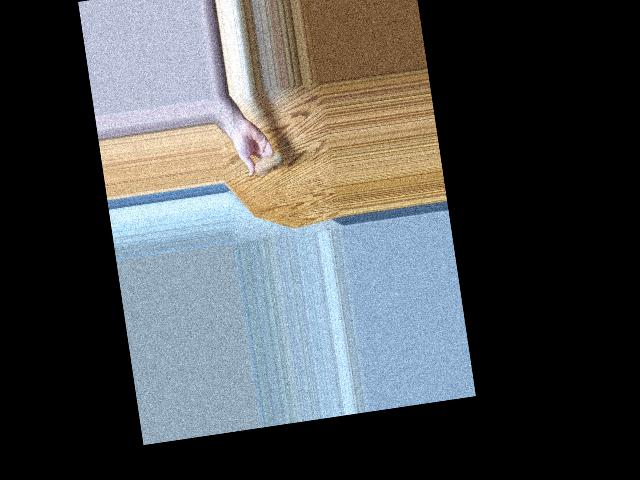sweet_potato: (250, 150, 282, 173)
